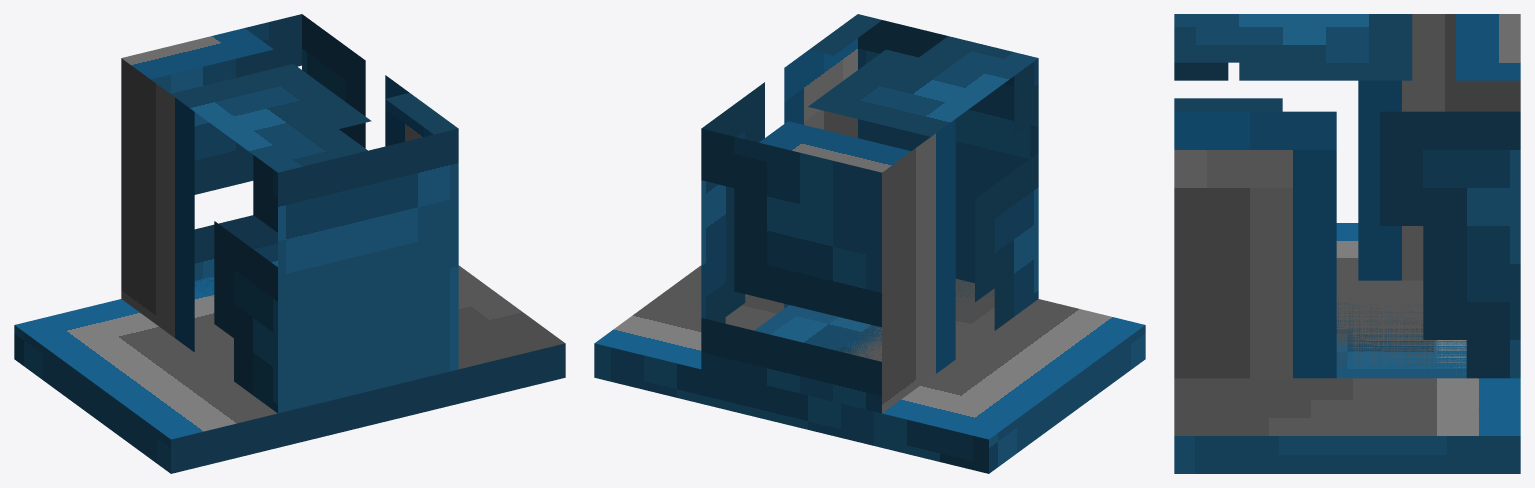
Rendered from crusher.obj.
The picture shows the model from 3 angles, left to right: view 1: azimuth 30°, elevation 25°; view 2: azimuth 150°, elevation 25°; view 3: azimuth 270°, elevation 25°; orthographic projection. The views are drawn at different scales.
Parts seen in each view (by area): view 1: mesh, mesh.001; view 2: mesh, mesh.001; view 3: mesh, mesh.001.
Part boxes in pixels (x1,y1,x2,y2): mesh: (121, 14, 458, 413); mesh.001: (14, 261, 565, 473); mesh: (701, 14, 1038, 413); mesh.001: (594, 265, 1145, 473); mesh: (1174, 14, 1520, 378); mesh.001: (1174, 223, 1520, 473).
Bounding box in the file's own units: 3 × 2 × 2.06.
